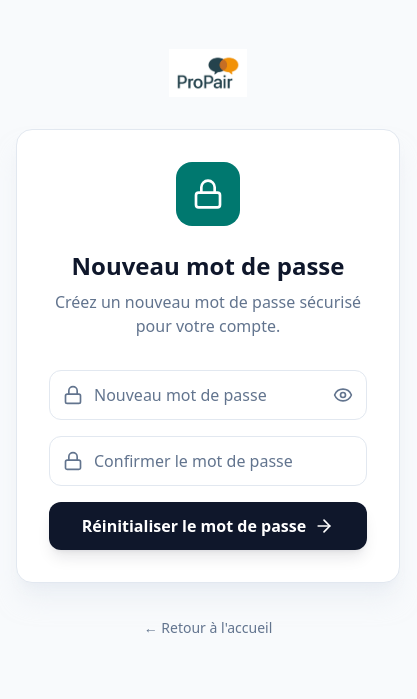
Test case: UpdatePassword › with valid reset token › password mismatch shows error
Type "password123" into the password field labelled "Nouveau mot de passe" at (208, 395), box [49,370,367,420]
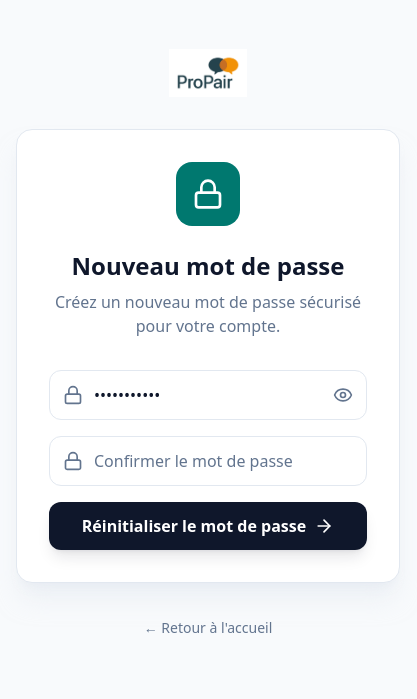
Type "different456" into the password field labelled "Confirmer le mot de passe" at (208, 461), box [49,436,367,486]
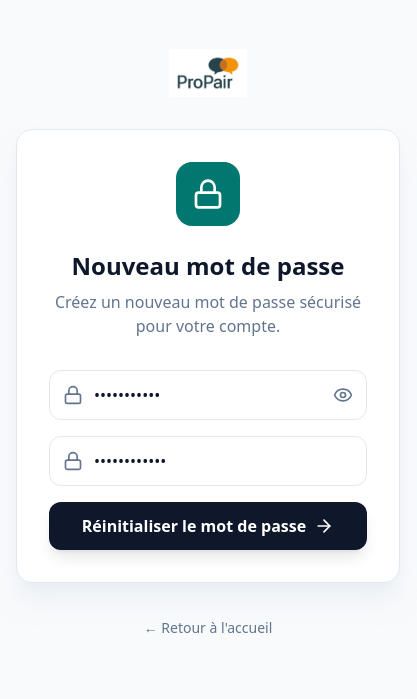
Submit the text "Réinitialiser le mot de passe", box [49,370,367,550]
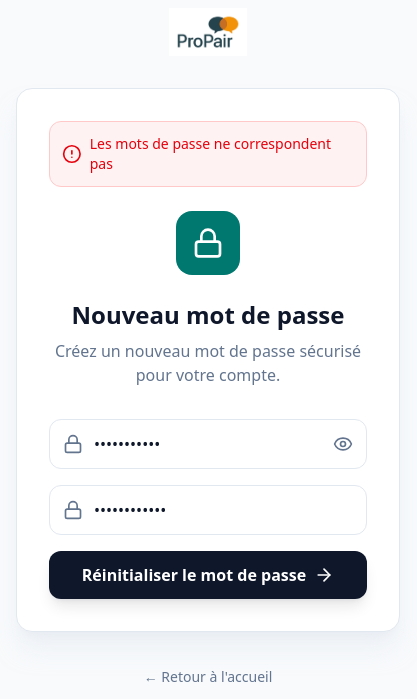
expect the text "Les mots de passe ne correspondent pas" is shown: met, box [49,121,367,187]
